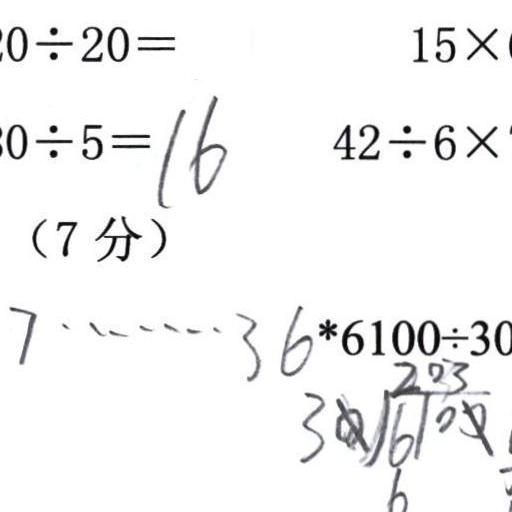ans: (6, 301, 313, 382), (150, 92, 229, 205)
